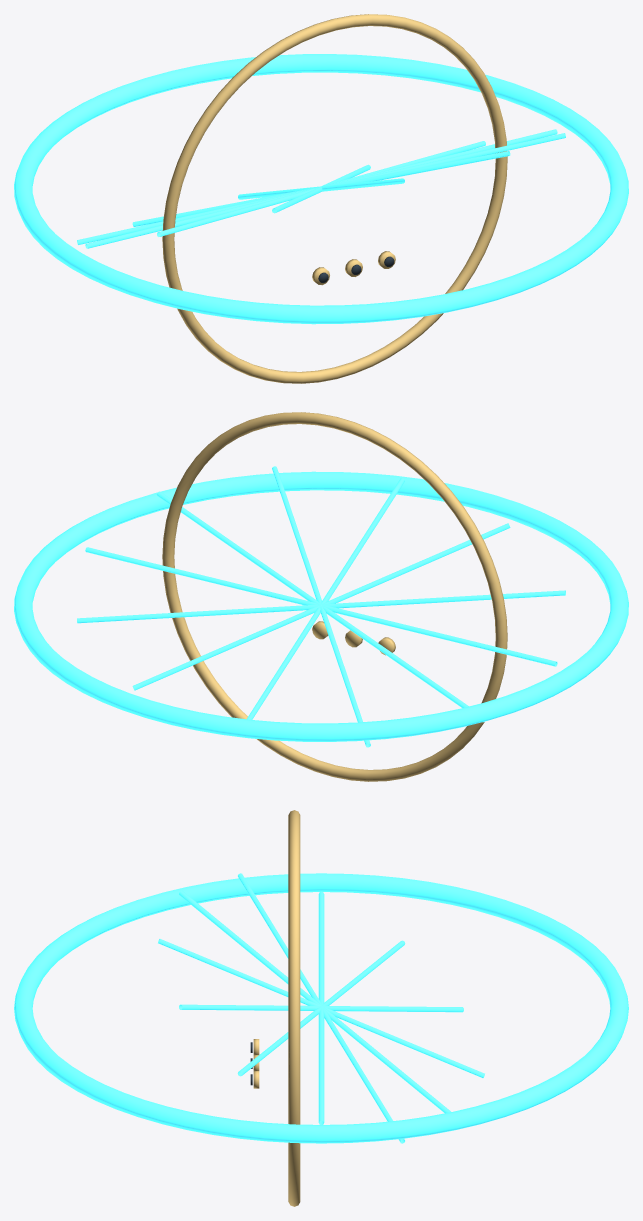
File: 04_L90_DeepSpaceDepartureHologram.fbx
3 renders of one model, top to bottom at view 1: azimuth 30°, elevation 25°; view 2: azimuth 150°, elevation 25°; view 3: azimuth 270°, elevation 25°, orthographic.
Visible parts, largest first — view 1: L90_DeepSpaceDepartureHologra_Part_0000, L90_DeepSpaceDepartureHologra_Part_0001; view 2: L90_DeepSpaceDepartureHologra_Part_0000, L90_DeepSpaceDepartureHologra_Part_0001; view 3: L90_DeepSpaceDepartureHologra_Part_0000, L90_DeepSpaceDepartureHologra_Part_0001.
Part boxes in pixels (x1,y1,x2,y2): L90_DeepSpaceDepartureHologra_Part_0000: [14, 54, 628, 324]; L90_DeepSpaceDepartureHologra_Part_0001: [162, 14, 507, 383]; L90_DeepSpaceDepartureHologra_Part_0000: [14, 466, 628, 747]; L90_DeepSpaceDepartureHologra_Part_0001: [162, 412, 507, 781]; L90_DeepSpaceDepartureHologra_Part_0000: [14, 873, 628, 1143]; L90_DeepSpaceDepartureHologra_Part_0001: [288, 810, 300, 1206].
Size of the model in its own units: 4.54 by 2.93 by 4.54.
